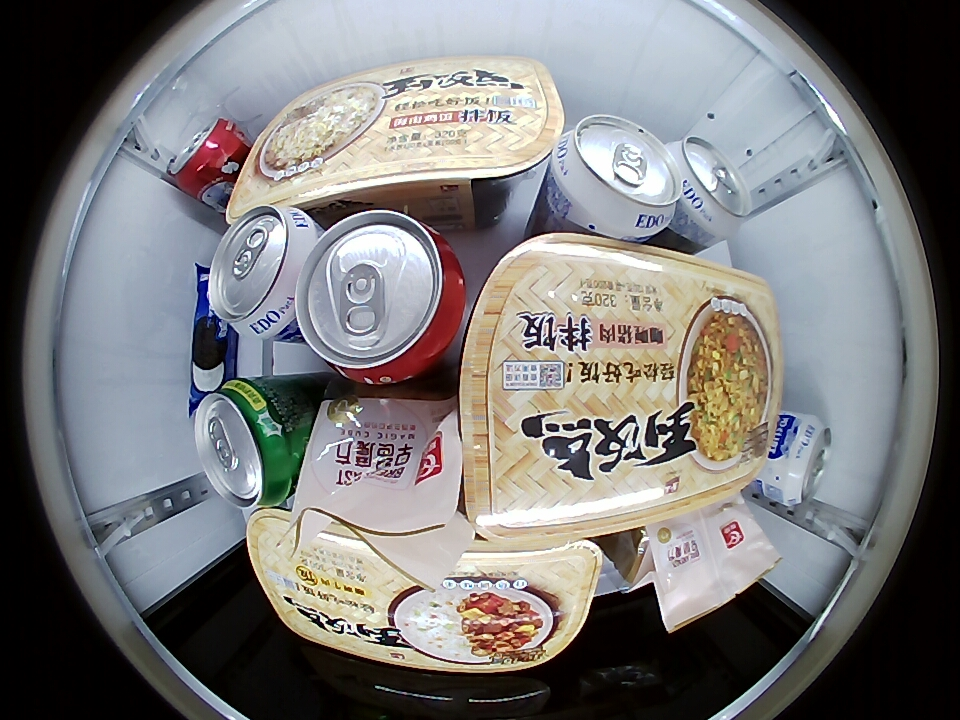aoliao: (191, 262, 238, 411)
daofandian1: (228, 57, 564, 227)
daofandian2: (242, 526, 603, 670)
daofandian3: (462, 233, 782, 545)
kele: (295, 208, 467, 386), (168, 115, 241, 195)
rusuanjunqishui: (547, 113, 682, 238), (202, 206, 315, 340), (671, 136, 753, 243), (763, 412, 832, 507)
xuebi2: (192, 380, 301, 509)
zaocanmofang: (296, 393, 462, 536), (635, 506, 784, 632)
